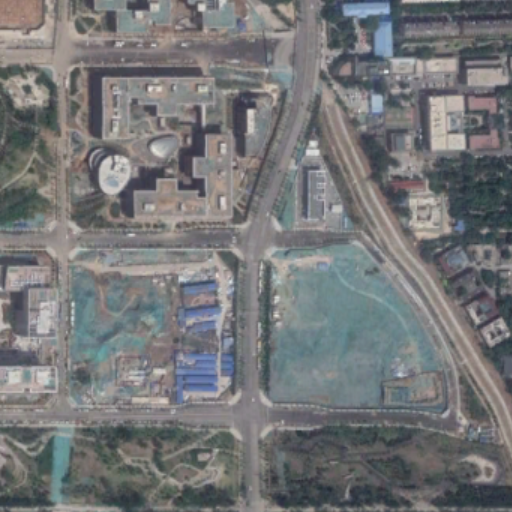cw: (261, 242, 461, 412), (68, 246, 218, 403)
